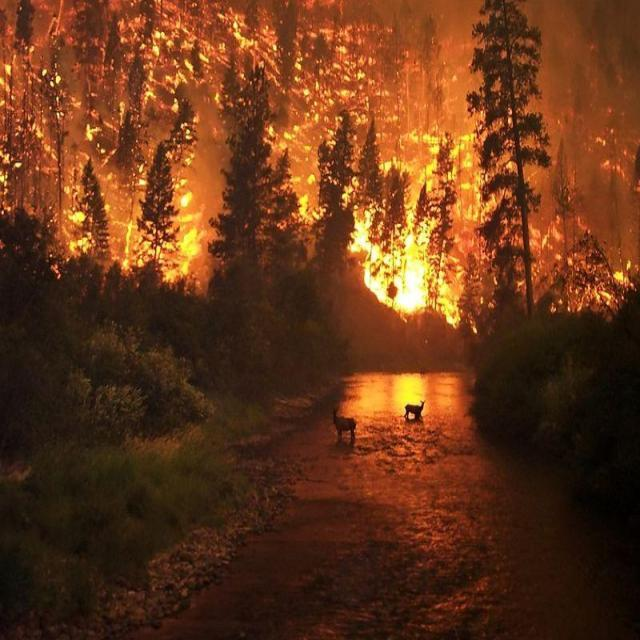Fire: (1, 1, 514, 334), (528, 208, 640, 315)
